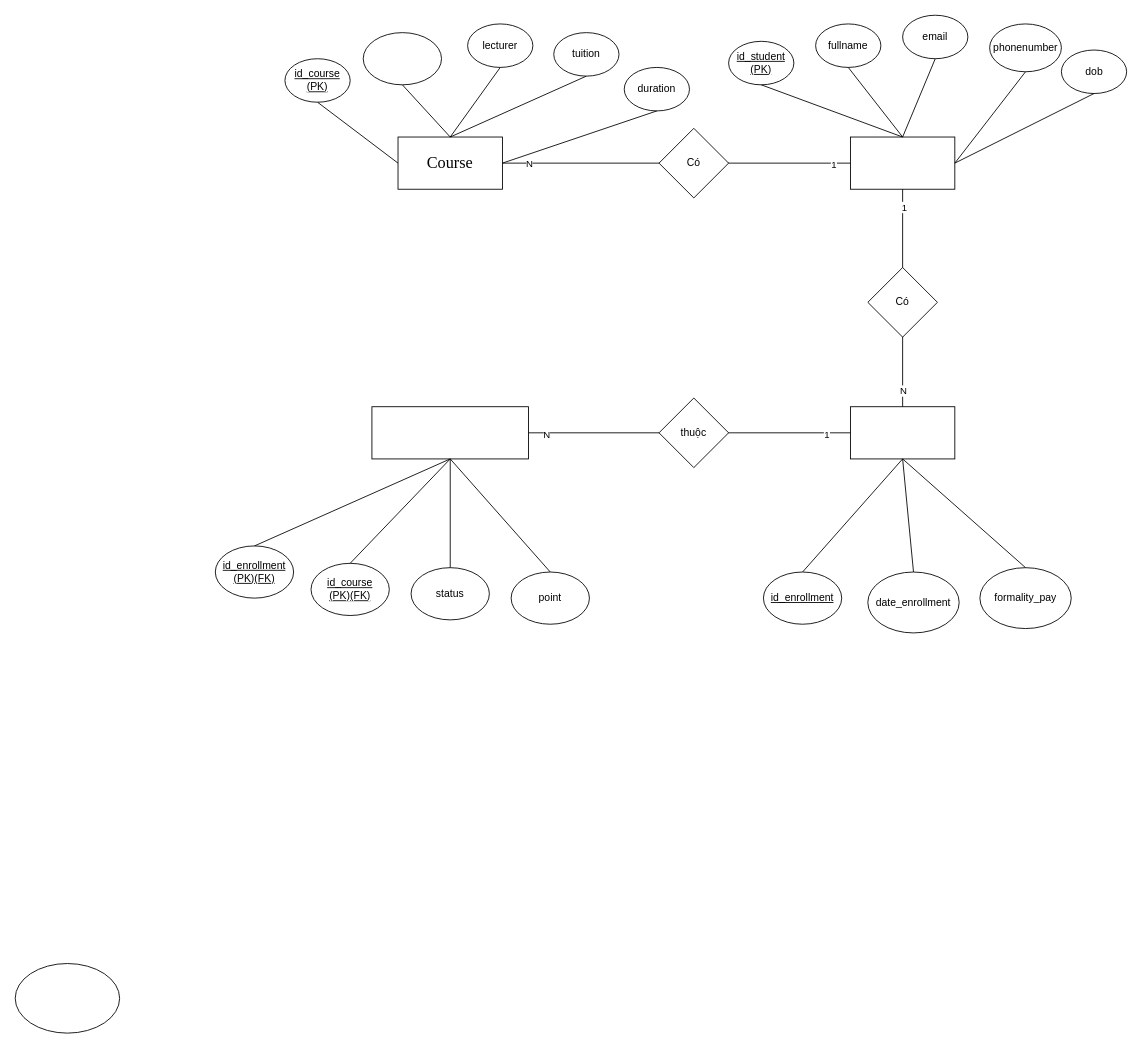
Image size: 1142x1048. Some labels were removed from this diagram. Here are the shapes that lost their labels. From the top down, the box of each, then its label:
(362, 32, 442, 85): name_course
(850, 136, 955, 189): Student
(371, 406, 529, 459): Enrollment_Detail
(850, 406, 955, 459): Enrollment
